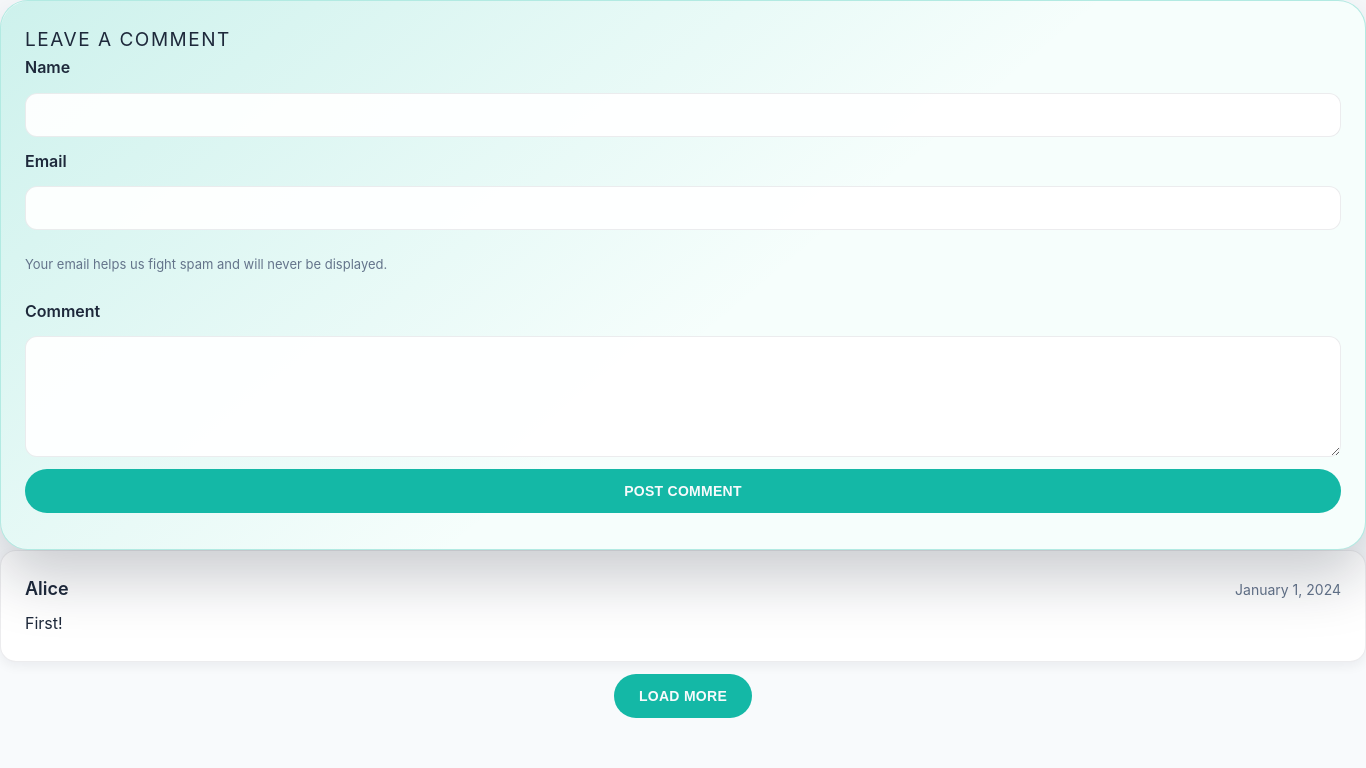
Comment form and list › renders pagination controls and loads additional pages
Expected: the text "First!" is shown, [25,613,63,633]
What coordinates should you click on to do the following:
click the button "Load more"
I would click on:
 (683, 696)
Its box is [614,674,752,718].
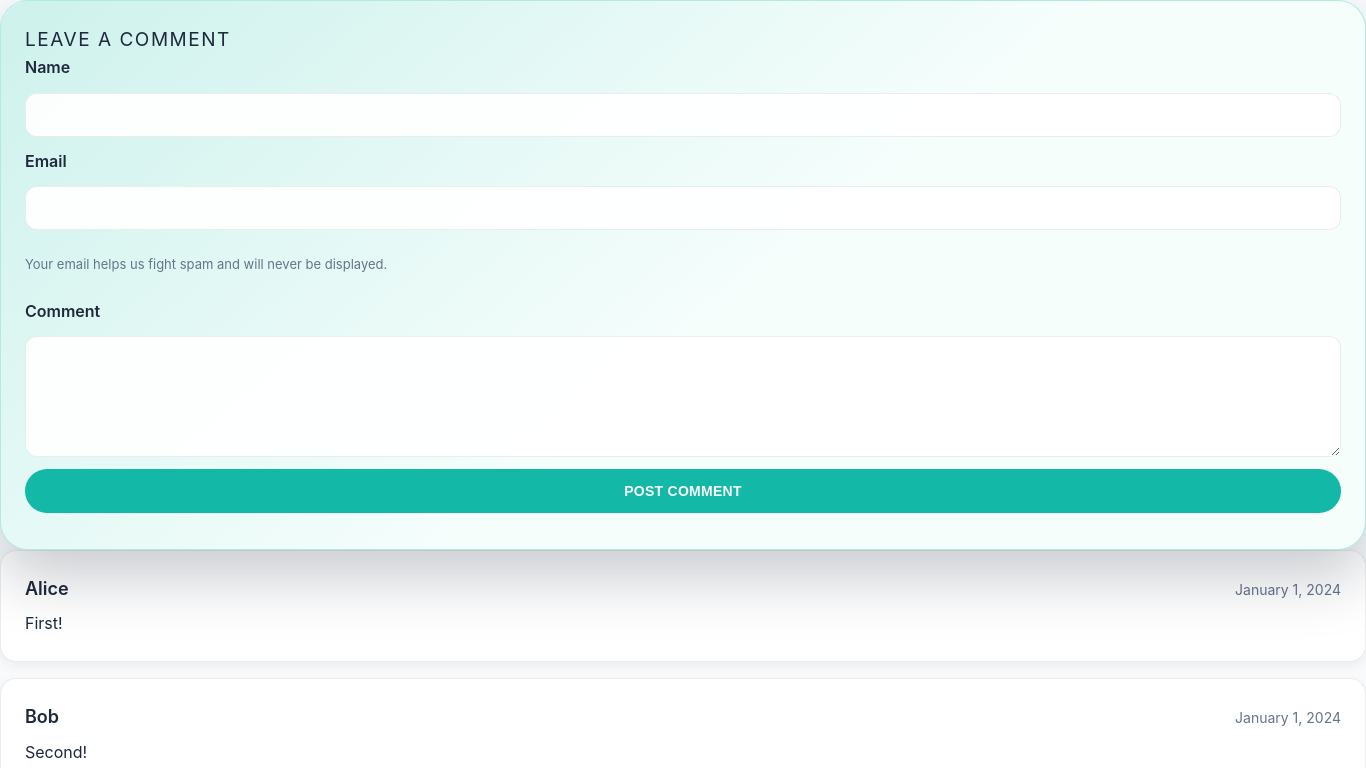
Now the text "Second!" is shown, box [25,742,87,762]
